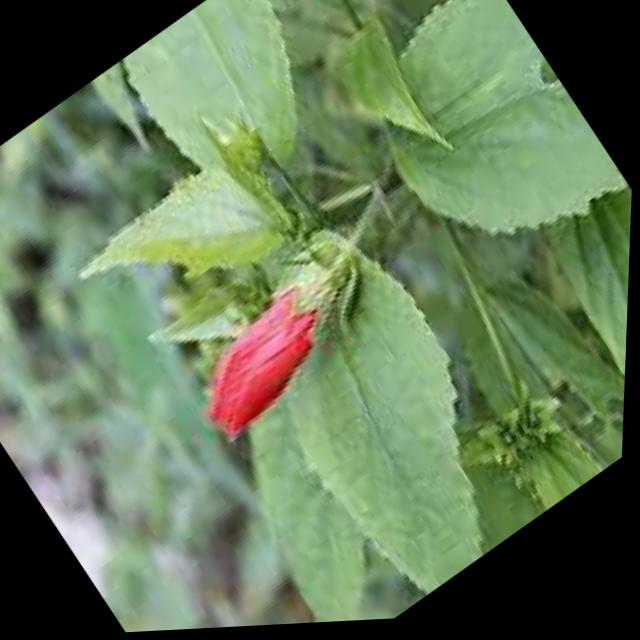Flower: (162, 224, 410, 453)
